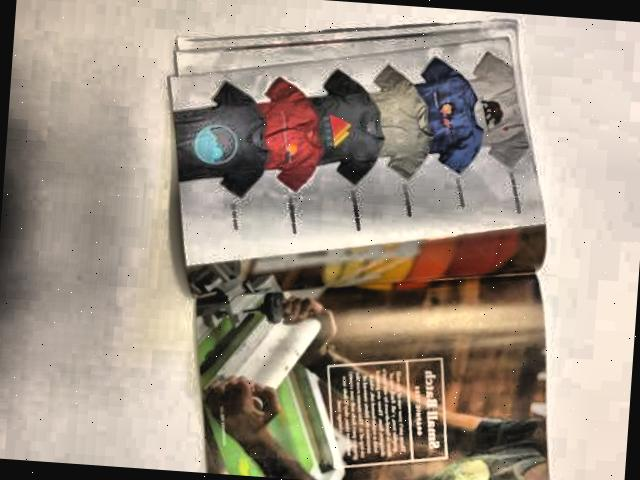Paper: (136, 0, 583, 480)
